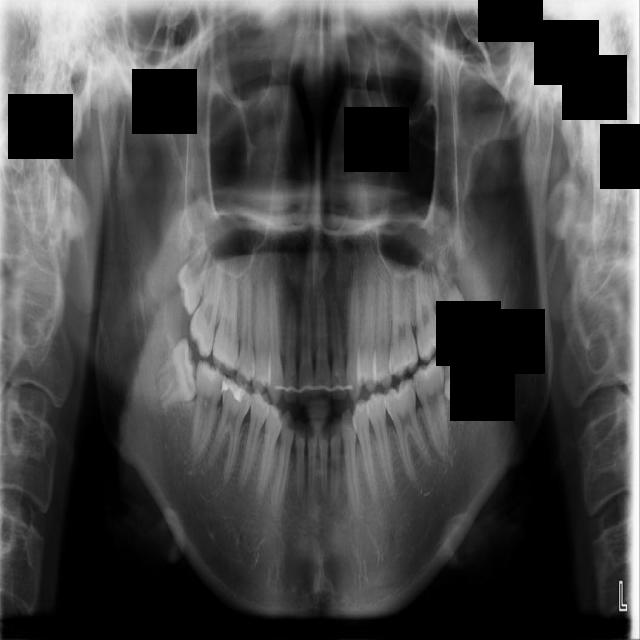3M ESPE Implant: (168, 228, 218, 318)
52: (209, 371, 263, 424), (440, 267, 457, 291), (413, 376, 421, 391), (410, 379, 417, 393), (215, 401, 219, 412)
73: (622, 580, 626, 590)
BioHorizons Implant: (414, 255, 445, 363)
BioLife Implant: (427, 248, 470, 337)
Biomet 3i Implant: (437, 337, 490, 408)
Blue Sky Bio Implant: (411, 355, 452, 460)
Caries: (184, 254, 233, 358)
Implant: (190, 360, 228, 460)
Keystone Dental Implant: (148, 335, 204, 410)
